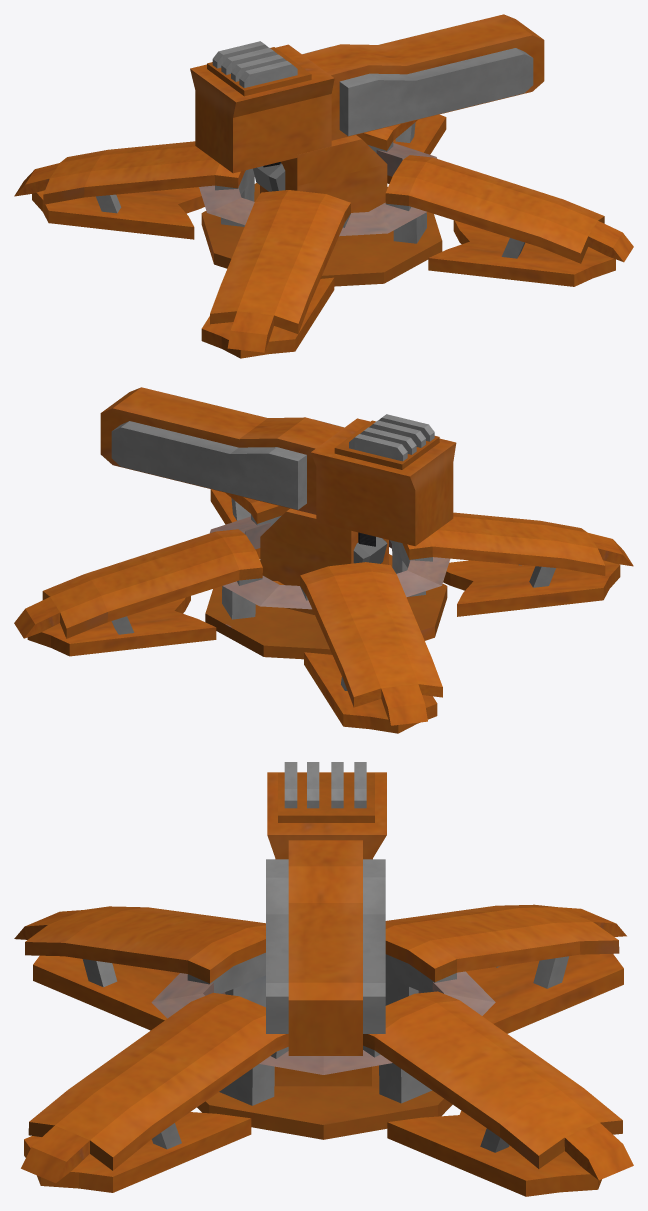
Rendered from TorreTinta3.fbx.
3 renders of one model, top to bottom at view 1: azimuth 30°, elevation 25°; view 2: azimuth 150°, elevation 25°; view 3: azimuth 270°, elevation 25°, orthographic. The views are drawn at different scales.
Visible parts, largest first — view 1: Cube.001, Cube.000; view 2: Cube.001, Cube.000; view 3: Cube.001, Cube.000.
Part boxes in pixels (x1,y1,x2,y2): Cube.001: (14, 114, 633, 358); Cube.000: (190, 14, 544, 191); Cube.001: (14, 489, 633, 733); Cube.000: (100, 387, 456, 563); Cube.001: (14, 904, 633, 1196); Cube.000: (266, 762, 386, 1055).
Size of the model in its own units: 605 by 274 by 605.
